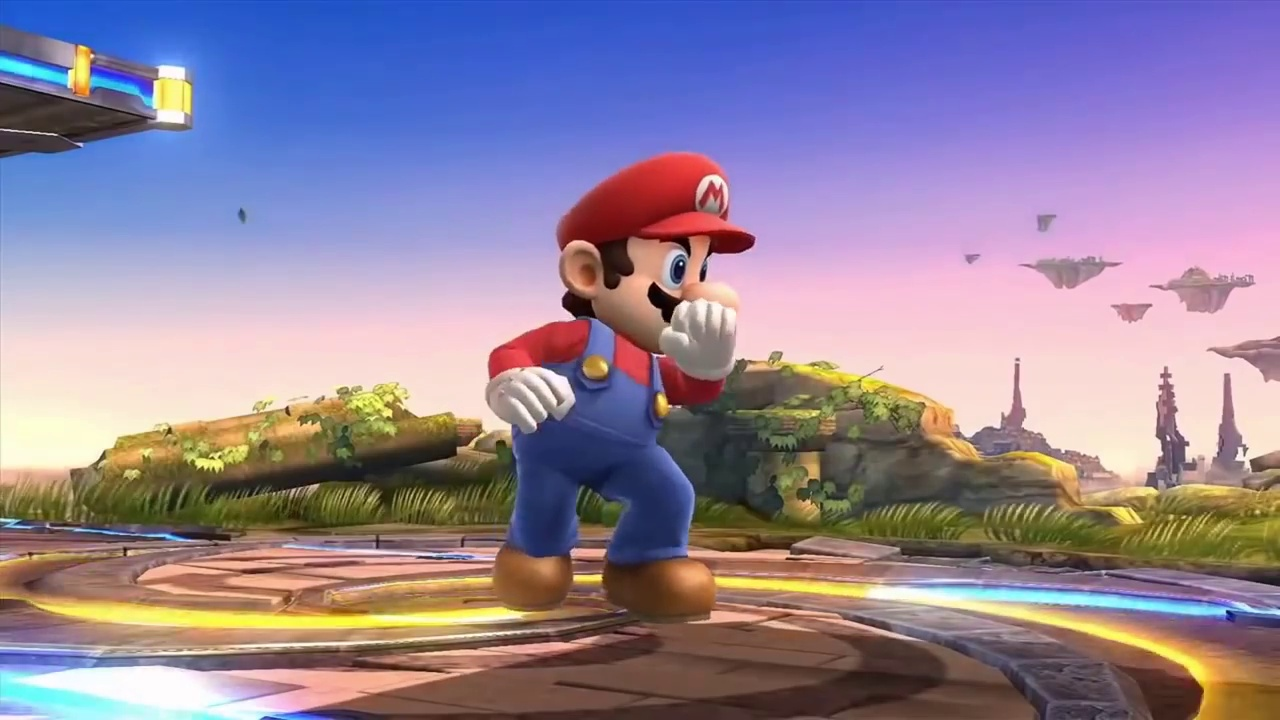Mario: (485, 151, 757, 622)
